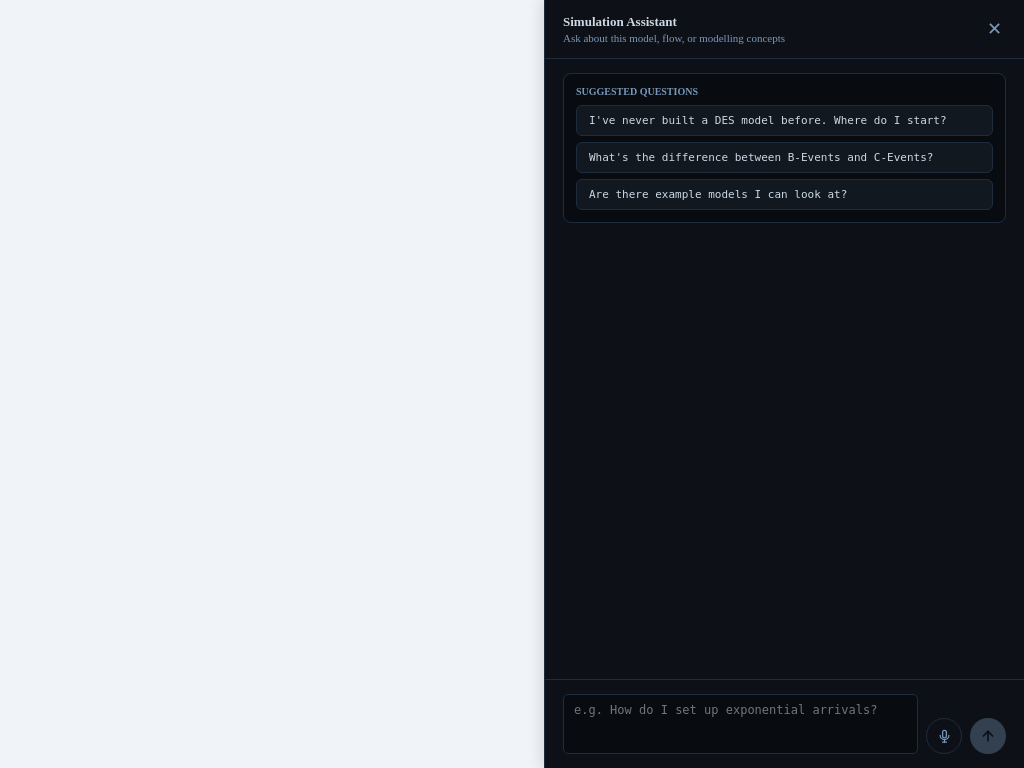
Scenario: HelpAssistant › loading indicator shows while isLoading
Step 1. Type "Test question" into the text box named "Your question" → (740, 724), box [563,694,918,754]
Then press Enter
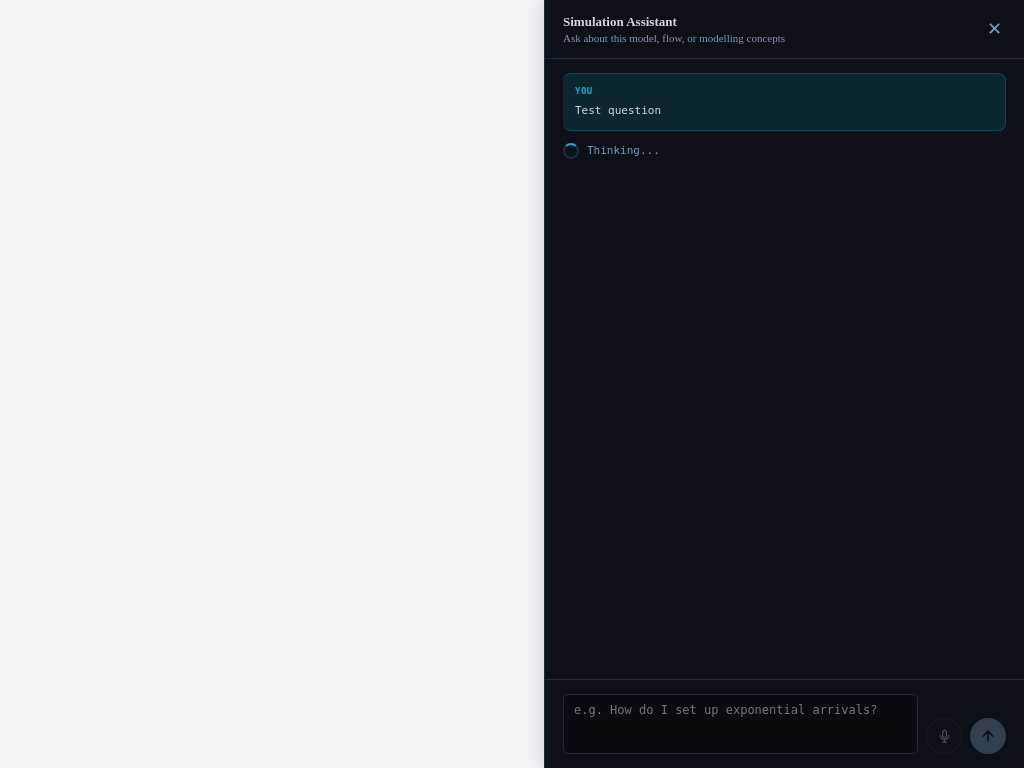
Now the text "Thinking..." is shown, box [563,143,660,159]
